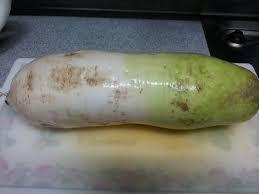radish: (1, 15, 105, 39)
